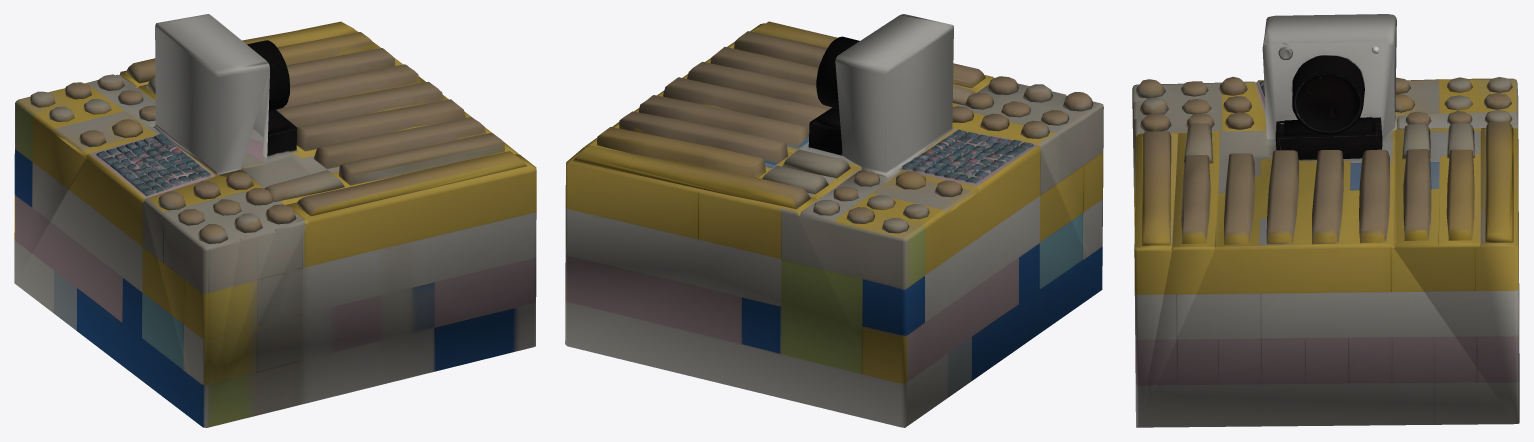
File: object_8_asset_a4cef605.glb
3 views of the same model, side by side, from view 1: azimuth 30°, elevation 25°; view 2: azimuth 150°, elevation 25°; view 3: azimuth 270°, elevation 25° (orthographic). The views are drawn at different scales.
Parts seen in each view (by area): view 1: tripo_node_260f08a0-f4b0-4396-8d1b-2972c22d420a; view 2: tripo_node_260f08a0-f4b0-4396-8d1b-2972c22d420a; view 3: tripo_node_260f08a0-f4b0-4396-8d1b-2972c22d420a.
Part boxes in pixels (left/top/right/bottom): tripo_node_260f08a0-f4b0-4396-8d1b-2972c22d420a: left=14, top=14, right=536, bottom=427; tripo_node_260f08a0-f4b0-4396-8d1b-2972c22d420a: left=565, top=14, right=1103, bottom=427; tripo_node_260f08a0-f4b0-4396-8d1b-2972c22d420a: left=1132, top=14, right=1519, bottom=427.
Size of the model in its own units: 0.998 by 0.8301 by 0.998.
1 material, 1 textured.
